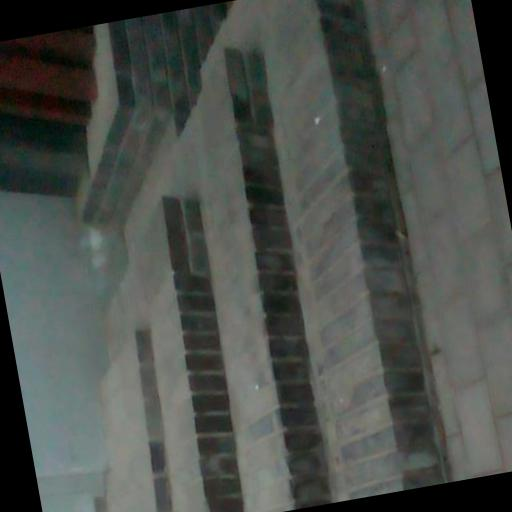stairs: (112, 0, 445, 511), (79, 3, 226, 224)
